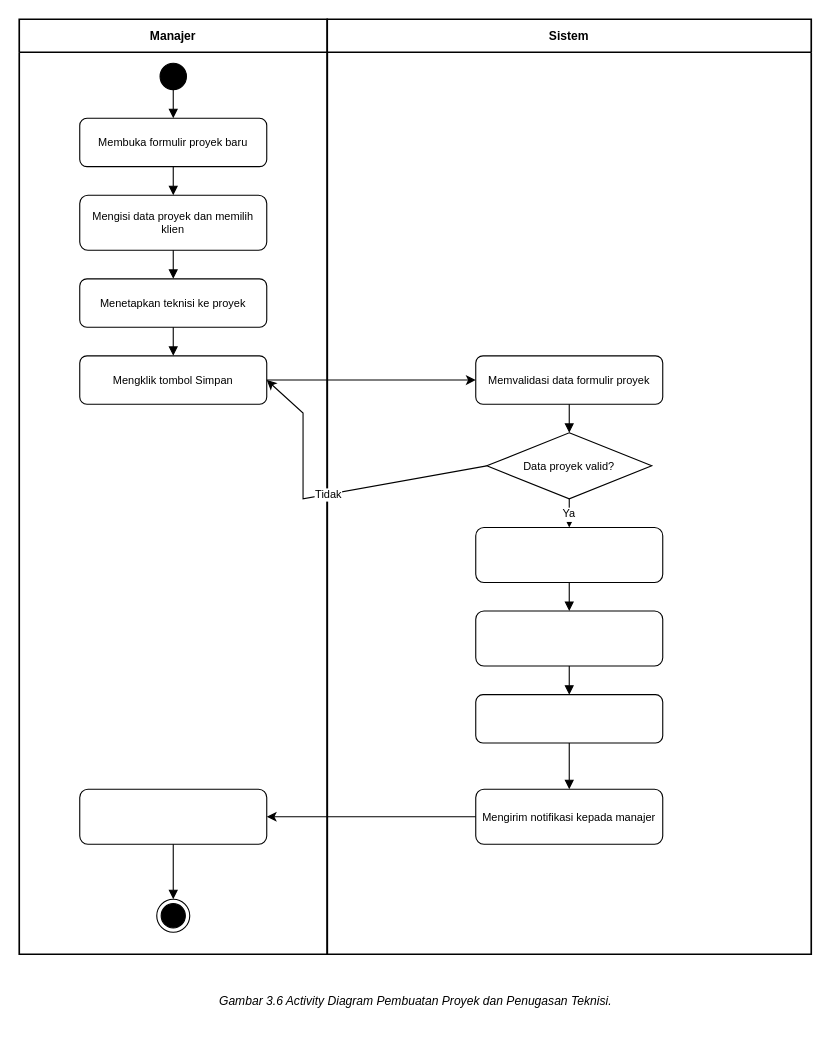
This 832x1037 diagram has some shape labels left out. Each missing label, with the centre of its shape:
"Melakukan auto-assign tugas ke teknisi" belongs at [569,638].
"Menerima notifikasi proyek berhasil dibuat" belongs at [173,816].
"Menghitung nilai SPI awal proyek" belongs at [569,718].
"Menyimpan data proyek ke database" belongs at [569,554].
